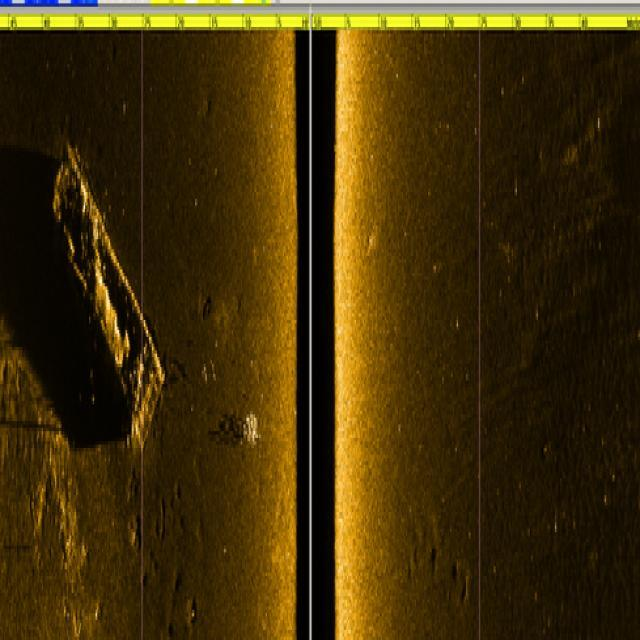shipwreck: (46, 128, 165, 452)
